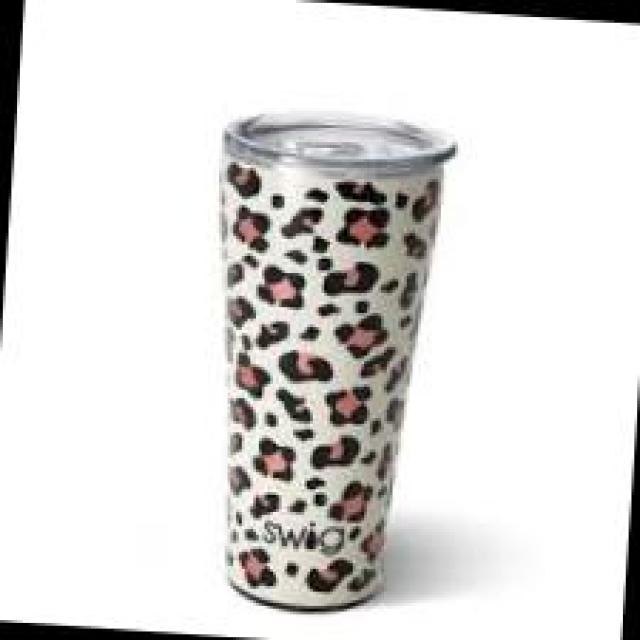bottle: (186, 105, 454, 612)
